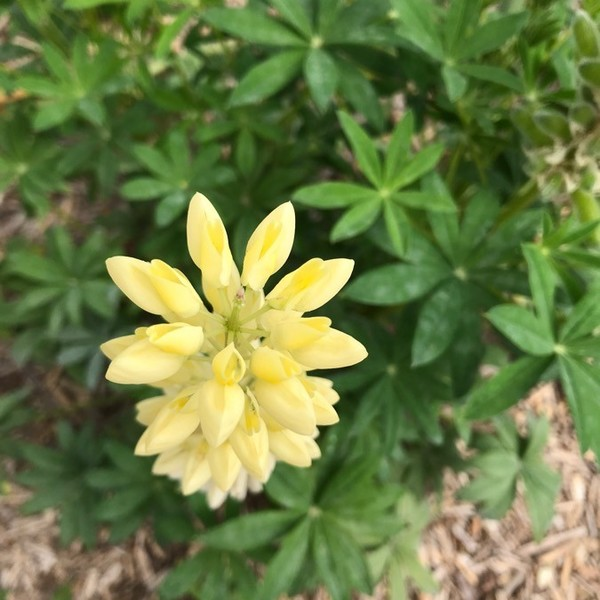obstacle: (58, 168, 392, 542), (285, 23, 581, 432)
